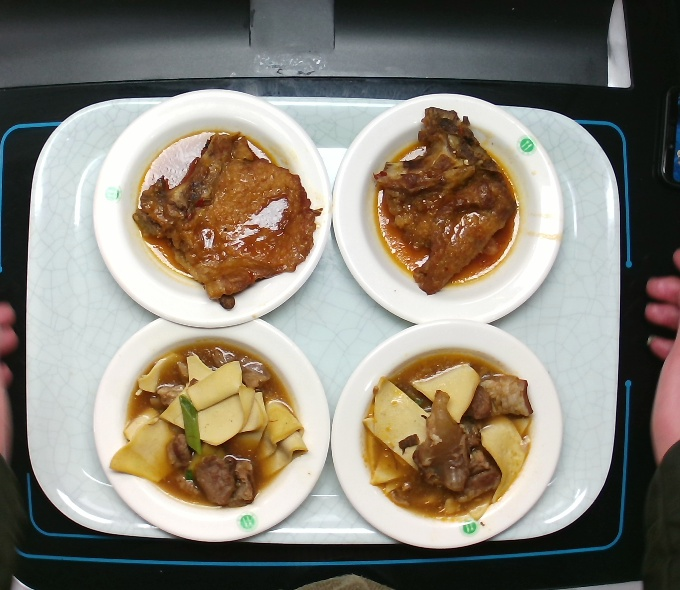wcq-DaPai: (135, 130, 317, 301), (368, 110, 521, 289)
wcq-QianZhangNiuRou: (351, 339, 538, 520), (120, 334, 307, 515)
